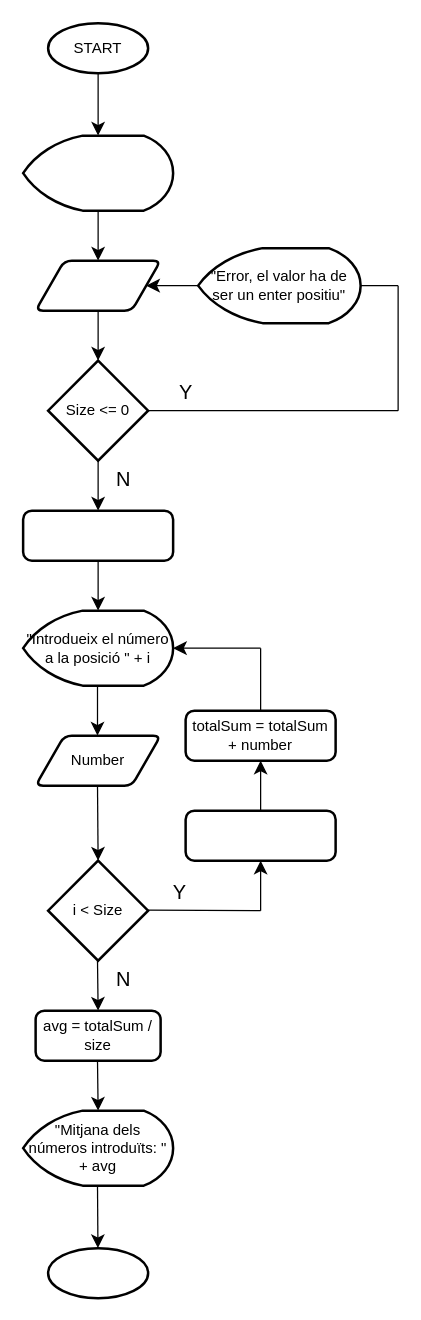
Image size: 421x1320. Some labels were removed from this diagram. Here are the shapes that lost their labels. From the top down, the centre of each, then its label:
point (97, 172): "Quants nombres vols introduir?"
point (97, 285): Size
point (97, 535): totalSum = 0 i = 0
point (260, 835): i = i + 1
point (97, 1272): END
